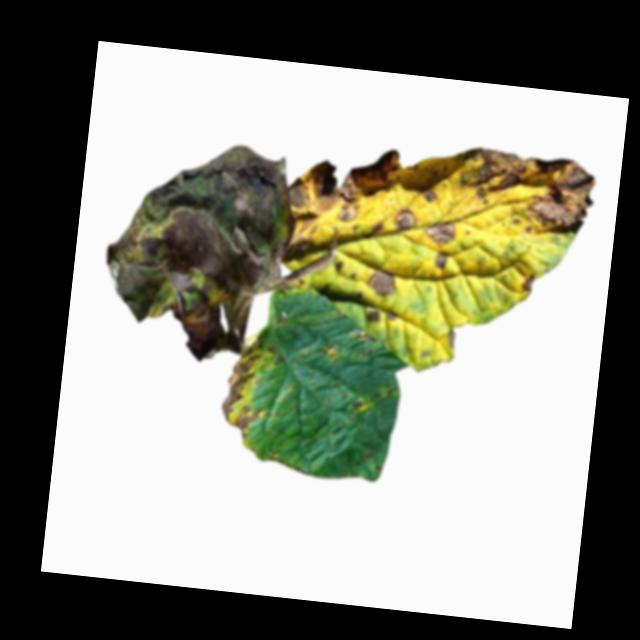Early_blight: (96, 131, 307, 369), (449, 144, 603, 241), (285, 137, 398, 235), (218, 336, 269, 440), (421, 219, 459, 249), (366, 266, 399, 298), (392, 208, 418, 233), (520, 271, 537, 293), (361, 309, 383, 325), (432, 251, 449, 271), (421, 187, 438, 205), (349, 400, 366, 414)
